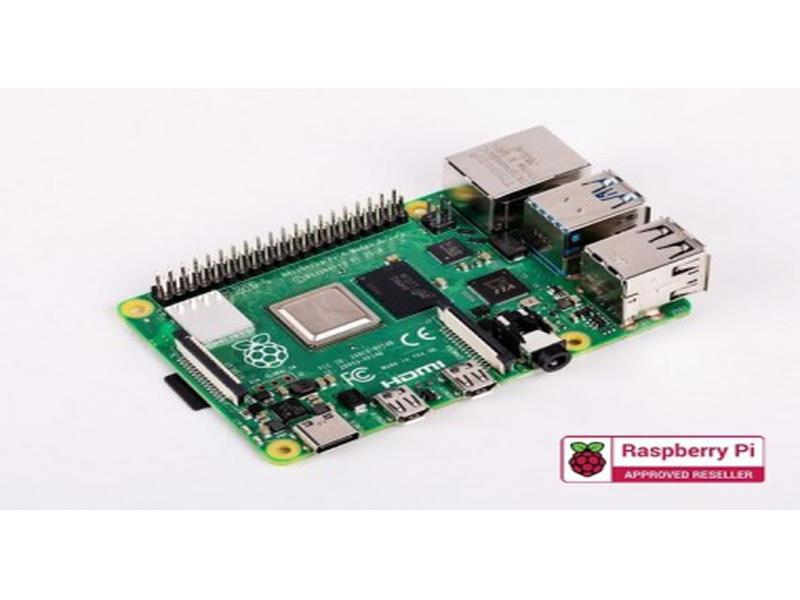Raspberry_Pi_3: (107, 110, 726, 469)
